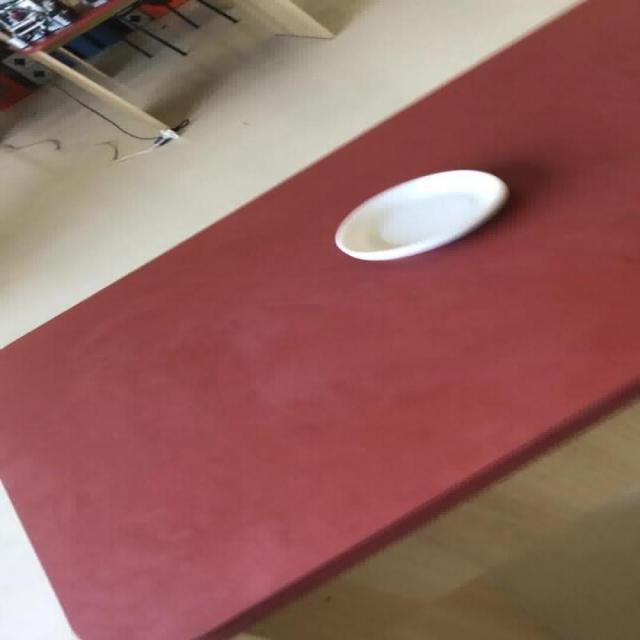Plate: (332, 168, 509, 261)
